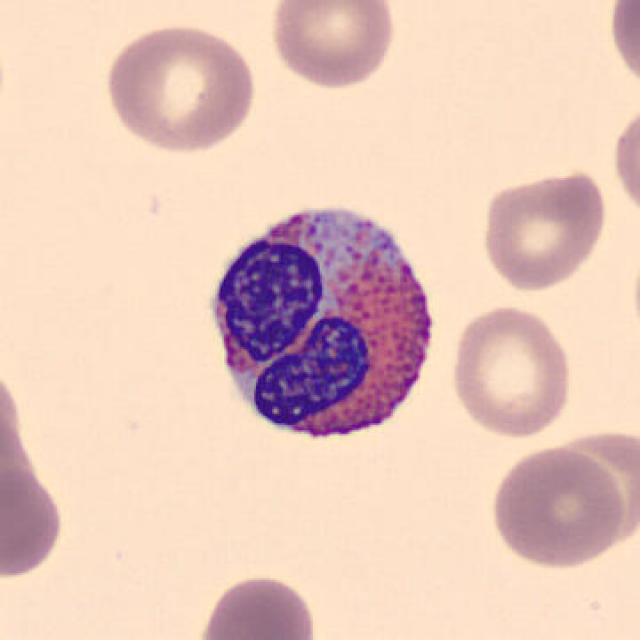Eosinophil: (192, 187, 448, 464)
RBC: (100, 18, 260, 157), (486, 443, 630, 571), (446, 301, 576, 441), (476, 166, 612, 294), (265, 0, 400, 92), (194, 569, 322, 640), (0, 464, 68, 582), (608, 97, 640, 227), (606, 0, 640, 99)
